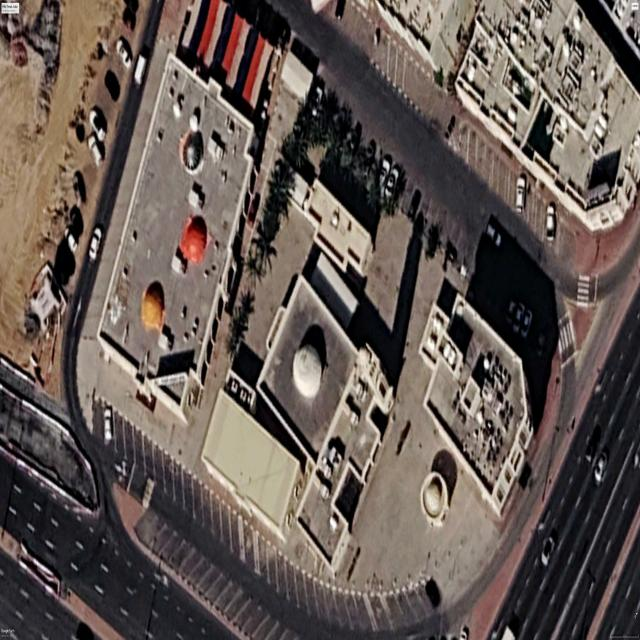mosque: (257, 275, 393, 575)
